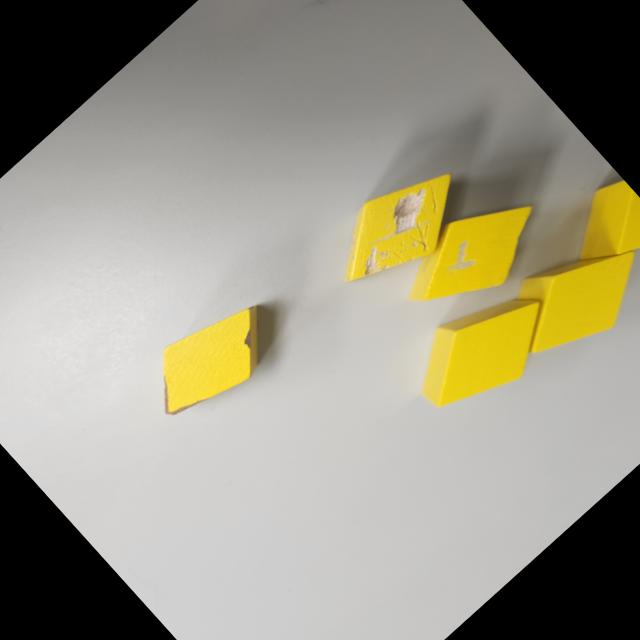broken: (384, 170, 560, 340), (312, 144, 484, 312), (130, 281, 290, 436)
yellow: (394, 262, 571, 435), (490, 210, 640, 380), (552, 170, 640, 295), (424, 0, 482, 23)
